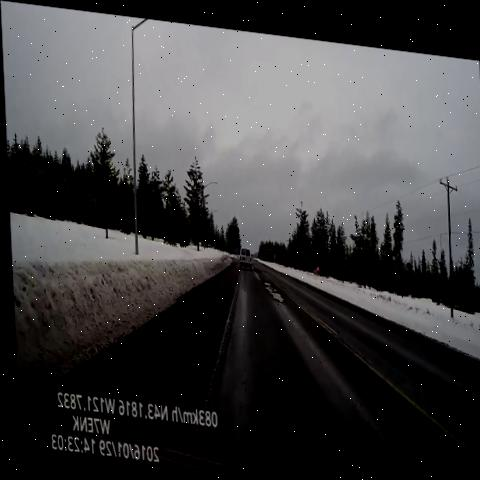pothole: (254, 268, 290, 310), (248, 258, 264, 274)
